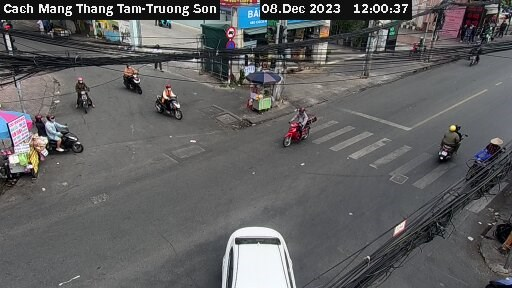car: (216, 217, 302, 286)
motorbike: (36, 111, 93, 160), (143, 80, 195, 120), (281, 108, 321, 151), (423, 121, 460, 156), (66, 79, 105, 111), (109, 62, 149, 91)
